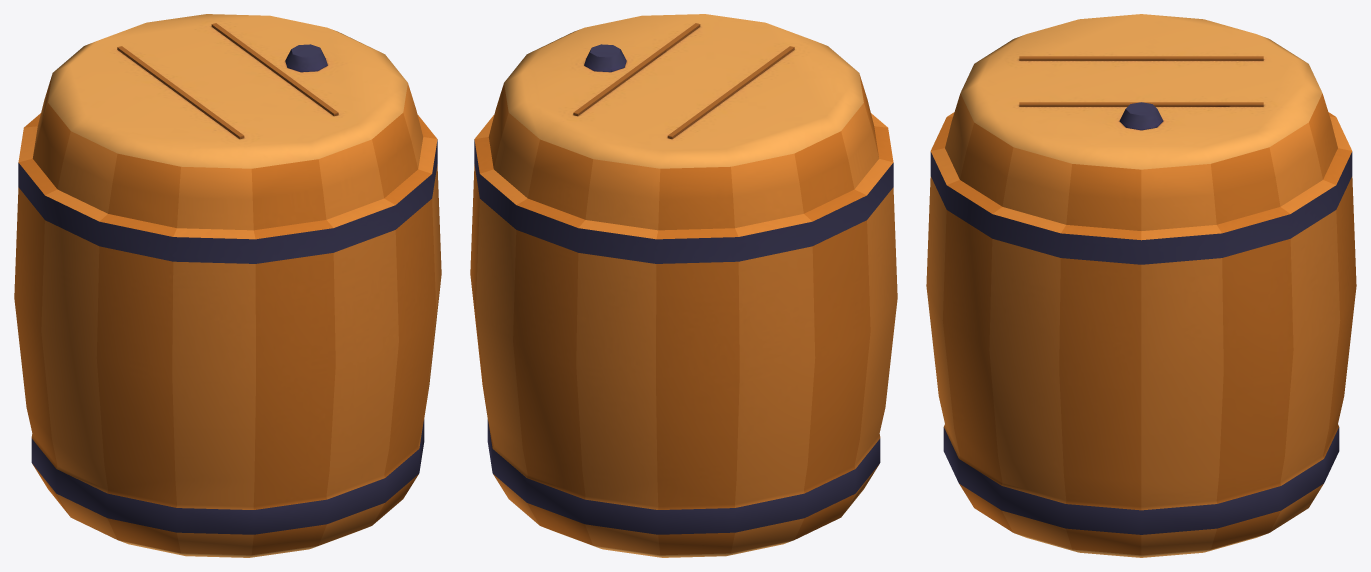
File: fici_t.glb
3 renders of one model, left to right at view 1: azimuth 30°, elevation 25°; view 2: azimuth 150°, elevation 25°; view 3: azimuth 270°, elevation 25°, orthographic.
Visible parts, largest first — view 1: fici_t; view 2: fici_t; view 3: fici_t.
Boxes of the visible parts, <box> form: fici_t: <box>14,14,441,557</box>; fici_t: <box>470,14,897,557</box>; fici_t: <box>926,14,1356,557</box>.
Bounding box in the file's own units: 1.47 × 1.58 × 1.47.
1 material, 1 textured.
